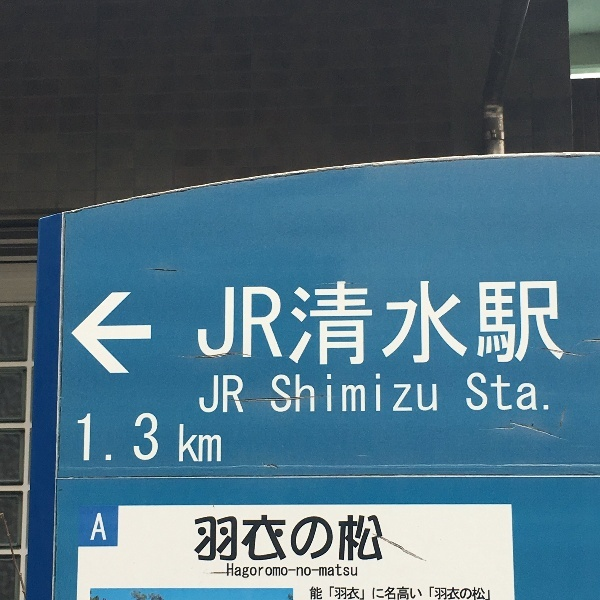text: (209, 278, 224, 369), (225, 278, 240, 369), (241, 278, 256, 369), (257, 278, 272, 369), (273, 278, 288, 369), (289, 278, 304, 369), (305, 278, 320, 369), (321, 278, 336, 369), (337, 278, 352, 369), (353, 278, 368, 369), (369, 278, 384, 369), (385, 278, 400, 369), (401, 278, 416, 369), (417, 278, 432, 369), (433, 278, 448, 369), (449, 278, 464, 369), (465, 278, 480, 369), (481, 278, 496, 369), (497, 278, 512, 369), (513, 278, 528, 369), (529, 278, 544, 369), (545, 278, 560, 369), (209, 409, 225, 466), (81, 409, 96, 466), (97, 409, 112, 466), (113, 409, 128, 466), (129, 409, 144, 466), (145, 409, 160, 466), (161, 409, 176, 466), (177, 409, 192, 466), (193, 409, 208, 466), (369, 515, 385, 566), (193, 515, 208, 566), (209, 515, 224, 566), (225, 515, 240, 566), (241, 515, 256, 566), (257, 515, 272, 566), (273, 515, 288, 566), (289, 515, 304, 566), (305, 515, 320, 566), (321, 515, 336, 566), (337, 515, 352, 566), (353, 515, 368, 566), (273, 374, 288, 417), (289, 374, 304, 417), (305, 374, 320, 417), (321, 374, 336, 417), (337, 374, 352, 417), (353, 374, 368, 417), (369, 374, 384, 417), (385, 374, 400, 417), (401, 374, 416, 417), (417, 374, 432, 417), (481, 373, 496, 416), (497, 373, 512, 416), (513, 373, 528, 416), (529, 373, 544, 416), (209, 374, 224, 416), (225, 374, 240, 416), (466, 373, 480, 416), (202, 278, 208, 369), (561, 278, 566, 369), (241, 374, 249, 416), (545, 373, 552, 416), (225, 564, 240, 581), (241, 564, 256, 581), (257, 564, 272, 581), (273, 564, 288, 581), (289, 564, 304, 581), (305, 564, 320, 581), (321, 564, 336, 581), (337, 564, 352, 581), (321, 585, 336, 600), (337, 585, 352, 600), (353, 585, 368, 600), (369, 585, 384, 600), (385, 585, 400, 600), (401, 585, 416, 600), (417, 585, 432, 600), (433, 585, 448, 600), (449, 585, 464, 600), (465, 585, 480, 600), (433, 374, 438, 417), (481, 585, 493, 600), (77, 409, 80, 466), (309, 585, 320, 600), (353, 564, 362, 581)
